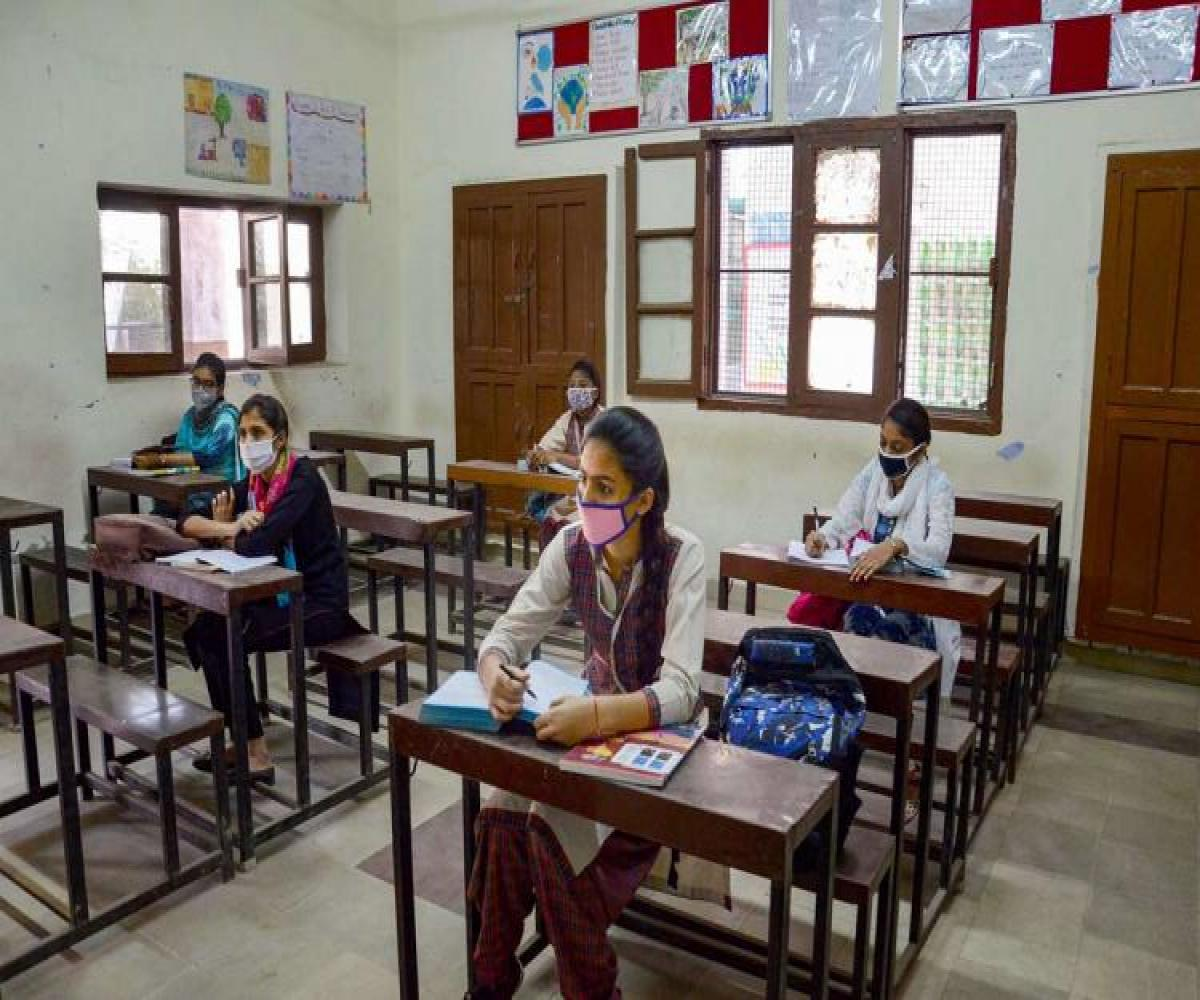with_mask: (577, 461, 629, 523), (239, 417, 276, 469), (566, 368, 595, 408), (192, 367, 219, 402), (883, 430, 905, 463)
